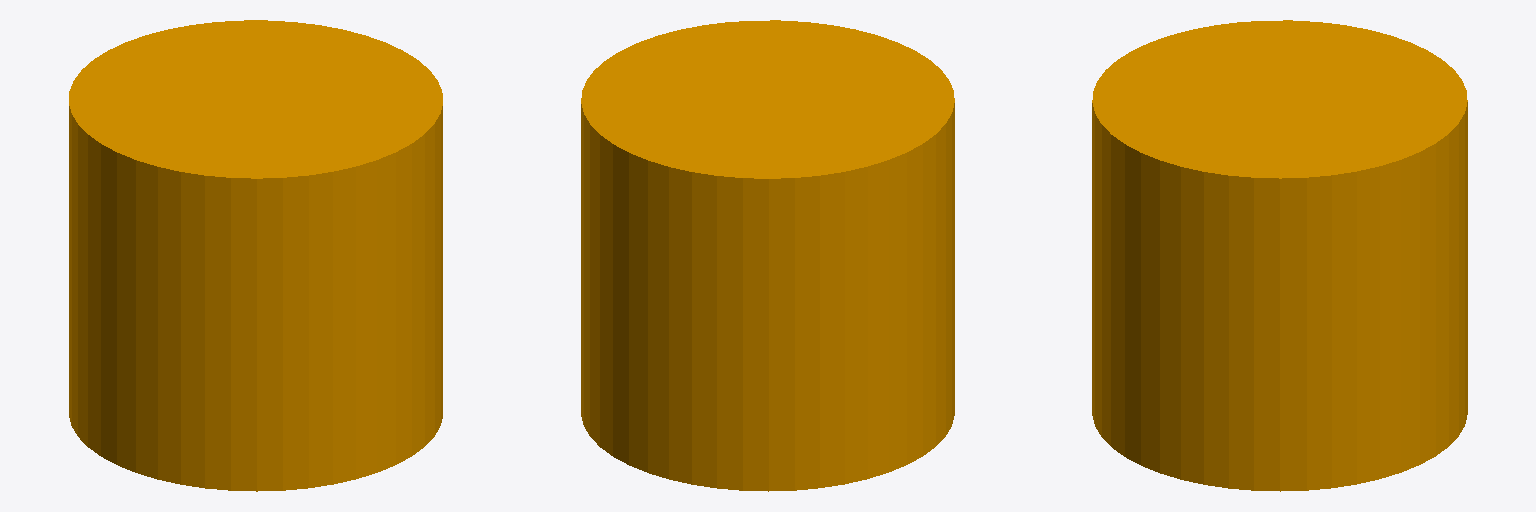
The robot description file, URDF, robot "object":
<?xml version="1.0"?>
<robot name="object">
  <link name="object">
    <visual>
      <origin xyz="0 0 0"/>
      <geometry>
        <mesh filename="meshes/generated/col_052.obj" scale="0.03 0.03 0.03"/>
      </geometry>
    </visual>
    <collision>
      <origin xyz="0 0 0"/>
      <geometry>
        <mesh filename="meshes/generated/col_052.obj" scale="0.03 0.03 0.03"/>
      </geometry>
    </collision>
    <inertial>
      <density value="1000.0"/>
    </inertial>
  </link>
</robot>

--- What the picture shows (computed from the rendered views, not written in the file) ---
The picture shows the robot from 3 angles, left to right: view 1: azimuth 30°, elevation 25°; view 2: azimuth 150°, elevation 25°; view 3: azimuth 270°, elevation 25°; orthographic projection.
Model object with 1 links and 0 joints (none), rooted at object, posed every joint at zero.
Links seen in each view (by area): view 1: object; view 2: object; view 3: object.
Boxes of the visible links, left/top/right/bottom form: object: left=69, top=20, right=442, bottom=491; object: left=581, top=20, right=954, bottom=491; object: left=1092, top=20, right=1467, bottom=491.
Size in the robot's own frame: 0.065 by 0.0652 by 0.06 metres.
Meshes: 1 distinct files referenced, 1 mesh visuals loaded (1 OBJ).
